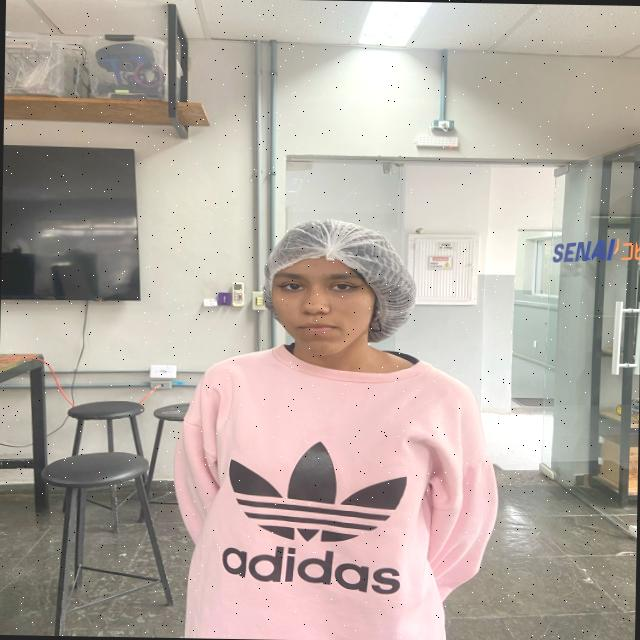TOUCA: (259, 219, 417, 344)
